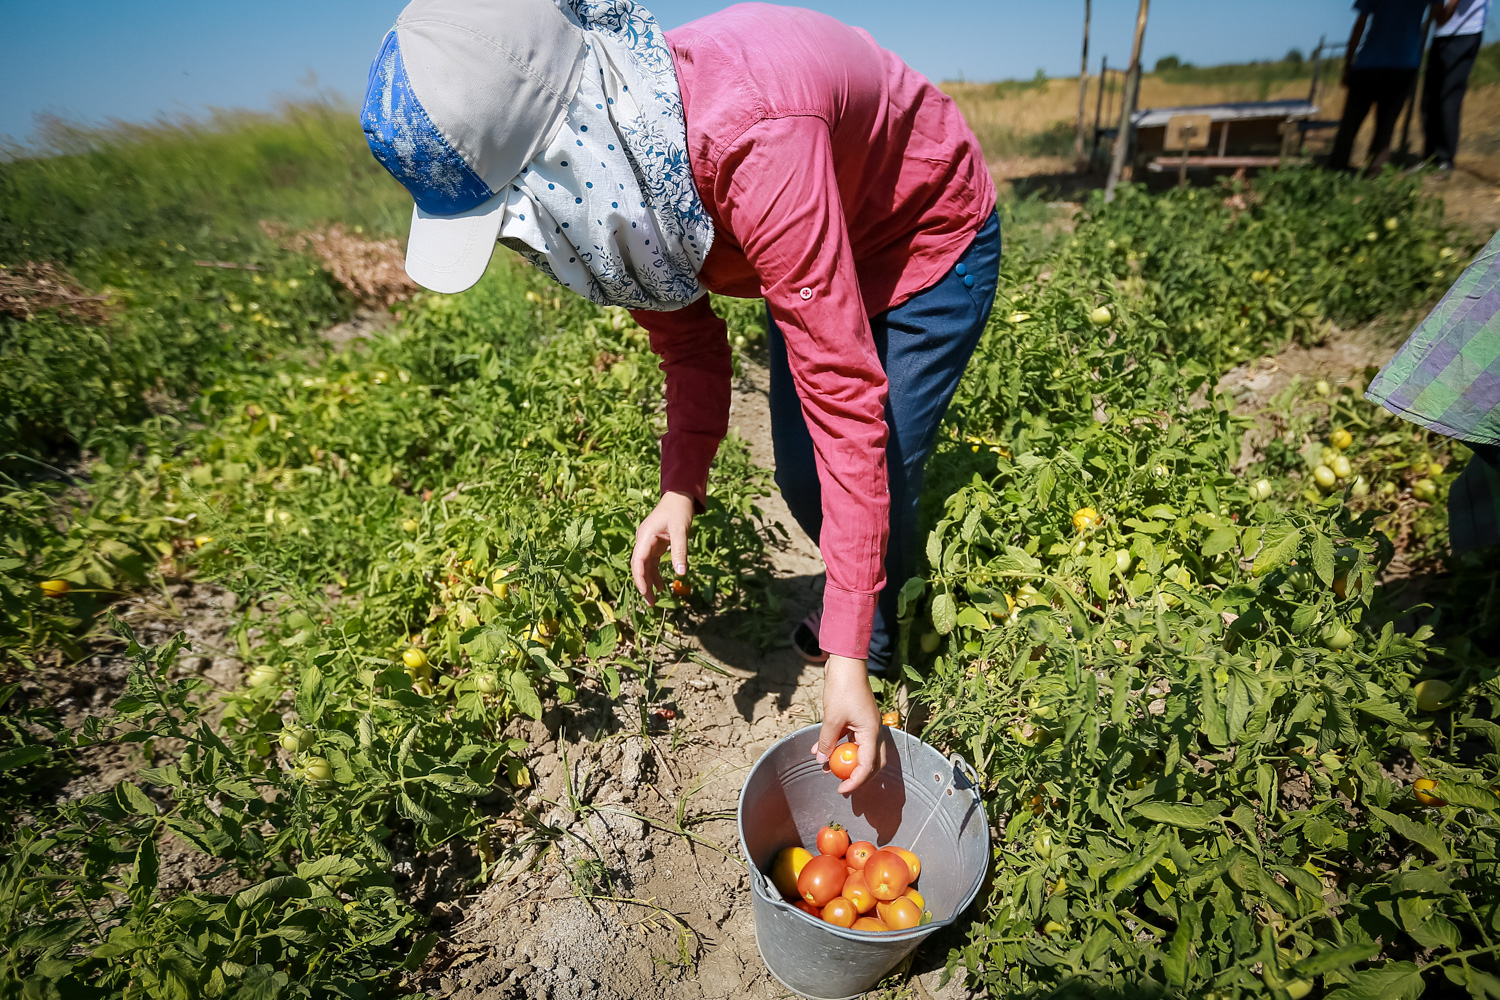person: (311, 3, 1029, 817)
